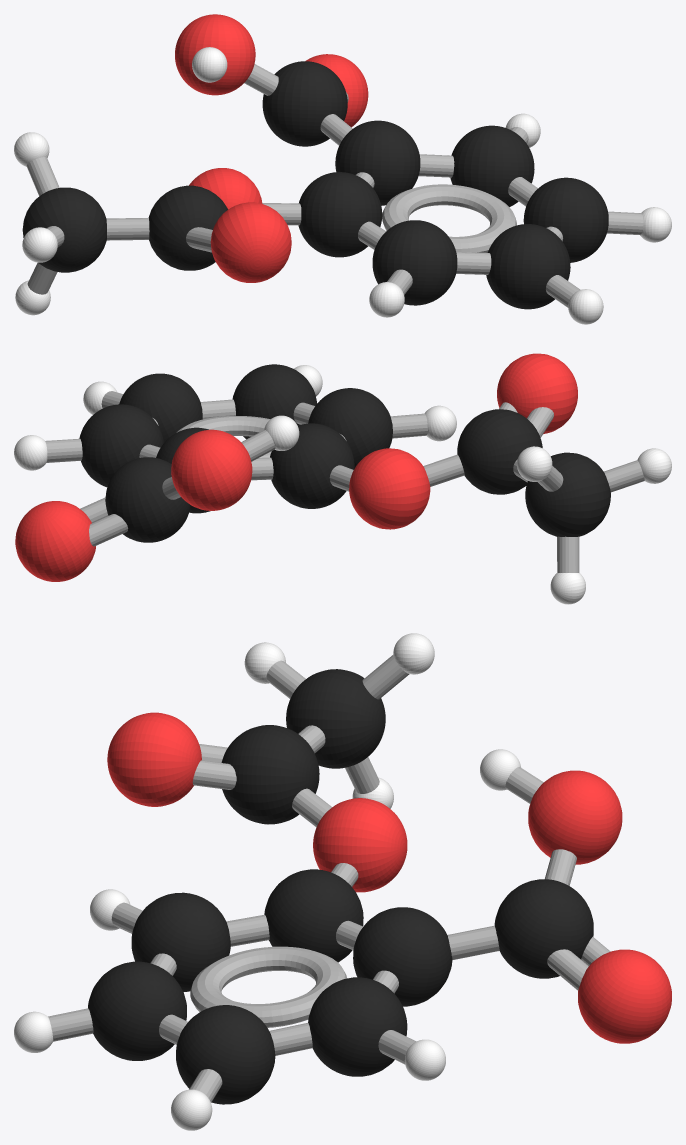
The model's file is asset.glb.
3 views of the same model, one above another, from view 1: azimuth 30°, elevation 25°; view 2: azimuth 150°, elevation 25°; view 3: azimuth 270°, elevation 25° (orthographic). The views are drawn at different scales.
Parts seen in each view (by area): view 1: Carbon_ball_Sphere.001, Carbon_ball_Sphere.003, Carbon_ball_Sphere.007, Oxygen_ball_Sphere.001, Carbon_ball_Sphere.002, Carbon_ball_Sphere.006, Carbon_ball_Sphere, Carbon_ball_Sphere.004, Carbon_ball_Sphere.005, Carbon_ball_Sphere.000, Oxygen_ball_Sphere.001.001, Torus (+23 smaller); view 2: Oxygen_ball_Sphere.001.001, Oxygen_ball_Sphere.001.000, Oxygen_ball_Sphere.001.002, Carbon_ball_Sphere, Carbon_ball_Sphere.000, Carbon_ball_Sphere.007, Carbon_ball_Sphere.001, Carbon_ball_Sphere.005, Oxygen_ball_Sphere.001, Carbon_ball_Sphere.002, Carbon_ball_Sphere.003, Carbon_ball_Sphere.004 (+22 smaller); view 3: Carbon_ball_Sphere.005, Carbon_ball_Sphere.003, Carbon_ball_Sphere.007, Carbon_ball_Sphere.004, Carbon_ball_Sphere.000, Oxygen_ball_Sphere.001.002, Oxygen_ball_Sphere.001, Carbon_ball_Sphere.006, Carbon_ball_Sphere, Oxygen_ball_Sphere.001.001, Oxygen_ball_Sphere.001.000, Carbon_ball_Sphere.001 (+22 smaller).
Part boxes in pixels (bbox=[...]): Carbon_ball_Sphere.001: bbox=[298, 172, 382, 257]; Carbon_ball_Sphere.003: bbox=[486, 224, 570, 309]; Carbon_ball_Sphere.007: bbox=[262, 61, 347, 146]; Oxygen_ball_Sphere.001: bbox=[210, 202, 291, 282]; Carbon_ball_Sphere.002: bbox=[372, 220, 457, 305]; Carbon_ball_Sphere.006: bbox=[335, 120, 420, 205]; Carbon_ball_Sphere: bbox=[22, 187, 106, 272]; Carbon_ball_Sphere.004: bbox=[523, 177, 608, 262]; Carbon_ball_Sphere.005: bbox=[450, 125, 534, 206]; Carbon_ball_Sphere.000: bbox=[148, 185, 227, 270]; Oxygen_ball_Sphere.001.001: bbox=[175, 14, 255, 95]; Torus: bbox=[382, 184, 516, 252]; Oxygen_ball_Sphere.001.001: bbox=[171, 429, 252, 510]; Oxygen_ball_Sphere.001.000: bbox=[349, 448, 430, 529]; Oxygen_ball_Sphere.001.002: bbox=[15, 501, 95, 581]; Carbon_ball_Sphere: bbox=[525, 452, 610, 536]; Carbon_ball_Sphere.000: bbox=[457, 409, 542, 494]; Carbon_ball_Sphere.007: bbox=[105, 457, 190, 542]; Carbon_ball_Sphere.001: bbox=[270, 423, 354, 508]; Carbon_ball_Sphere.005: bbox=[79, 404, 163, 487]; Oxygen_ball_Sphere.001: bbox=[497, 353, 577, 434]; Carbon_ball_Sphere.002: bbox=[308, 388, 392, 468]; Carbon_ball_Sphere.003: bbox=[232, 364, 316, 439]; Carbon_ball_Sphere.004: bbox=[119, 373, 202, 442]; Carbon_ball_Sphere.005: bbox=[308, 977, 407, 1076]; Carbon_ball_Sphere.003: bbox=[88, 961, 186, 1060]; Carbon_ball_Sphere.007: bbox=[494, 879, 593, 978]; Carbon_ball_Sphere.004: bbox=[176, 1005, 275, 1104]; Carbon_ball_Sphere.000: bbox=[221, 725, 319, 824]; Oxygen_ball_Sphere.001.002: bbox=[578, 949, 671, 1043]; Oxygen_ball_Sphere.001: bbox=[107, 712, 201, 806]; Carbon_ball_Sphere.006: bbox=[353, 907, 452, 1006]; Carbon_ball_Sphere: bbox=[286, 669, 385, 768]; Oxygen_ball_Sphere.001.001: bbox=[528, 770, 622, 864]; Oxygen_ball_Sphere.001.000: bbox=[313, 798, 407, 892]; Carbon_ball_Sphere.001: bbox=[264, 869, 363, 962].
Bounding box in the file's own units: 12.77 × 3.63 × 10.17.
